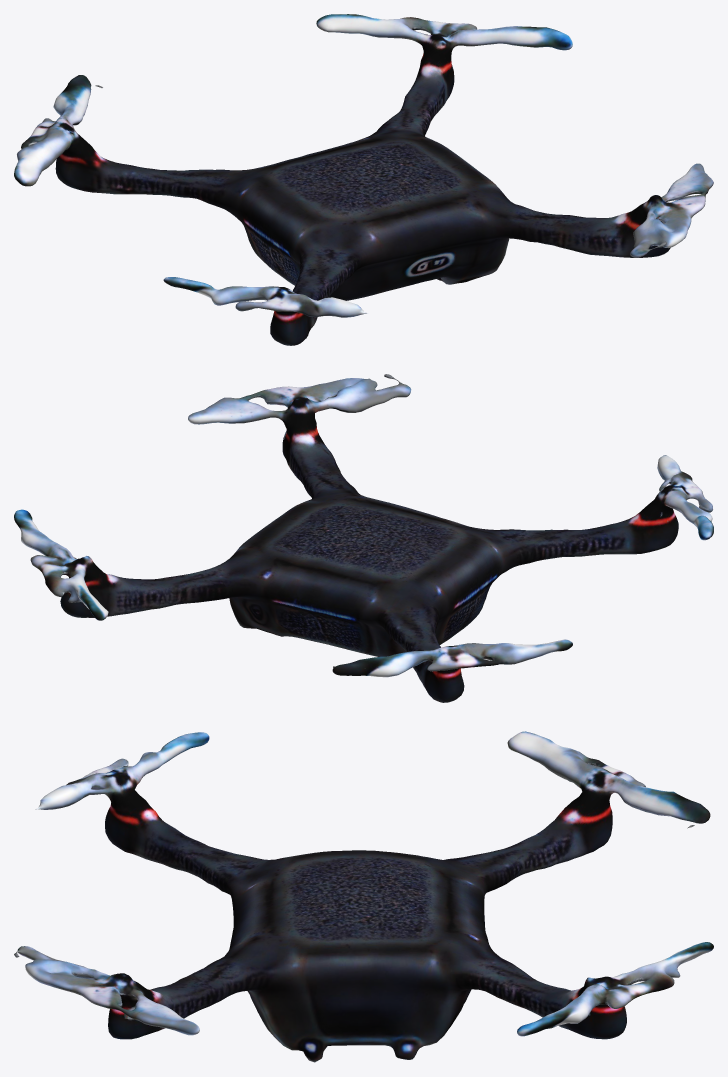
File: drone.glb
3 renders of one model, top to bottom at view 1: azimuth 30°, elevation 25°; view 2: azimuth 150°, elevation 25°; view 3: azimuth 270°, elevation 25°, orthographic. The views are drawn at different scales.
Parts seen in each view (by area): view 1: mesh; view 2: mesh; view 3: mesh.
Part boxes in pixels (x1,y1,x2,y2): mesh: (14,14,713,345); mesh: (14,374,713,702); mesh: (14,731,713,1062).
Bounding box in the file's own units: 0.9961 × 0.2124 × 0.9933.
Materials: 1 (1 with a texture image).
